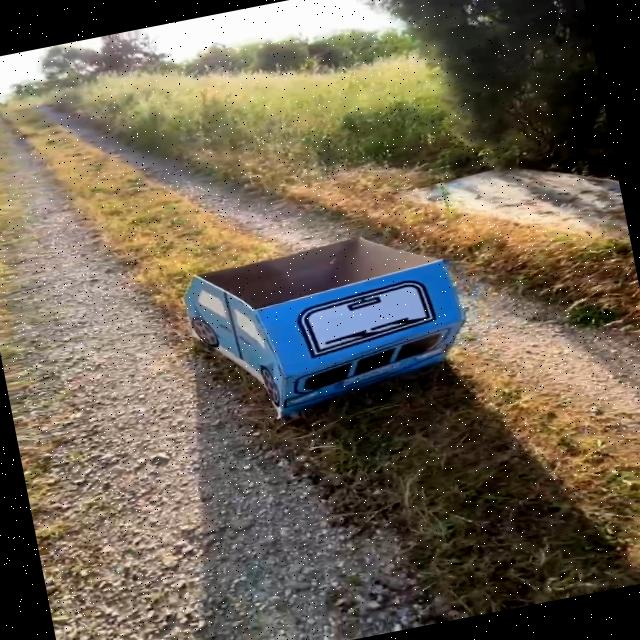blue_car: (71, 171, 535, 466)
